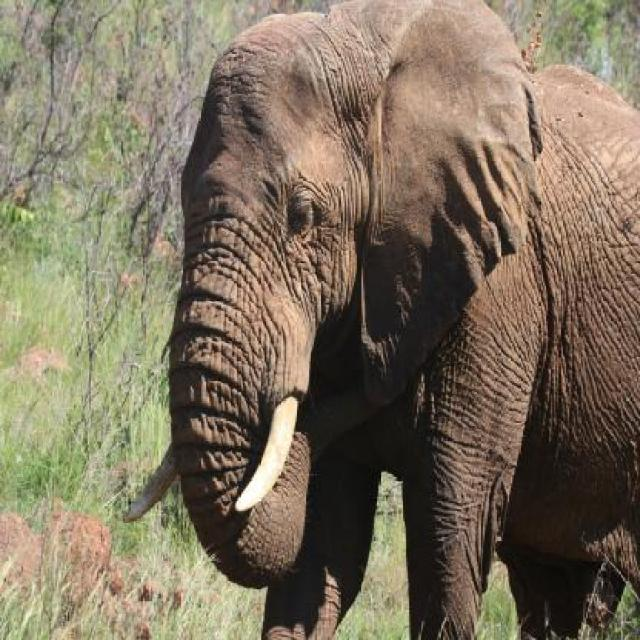Elephant: (117, 1, 638, 638)
